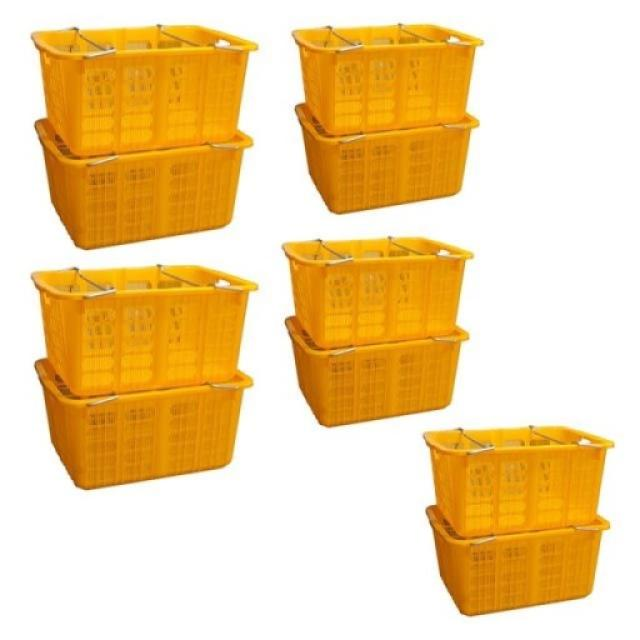basket: (28, 22, 258, 251), (31, 7, 268, 161), (290, 103, 480, 221), (294, 22, 487, 136)
